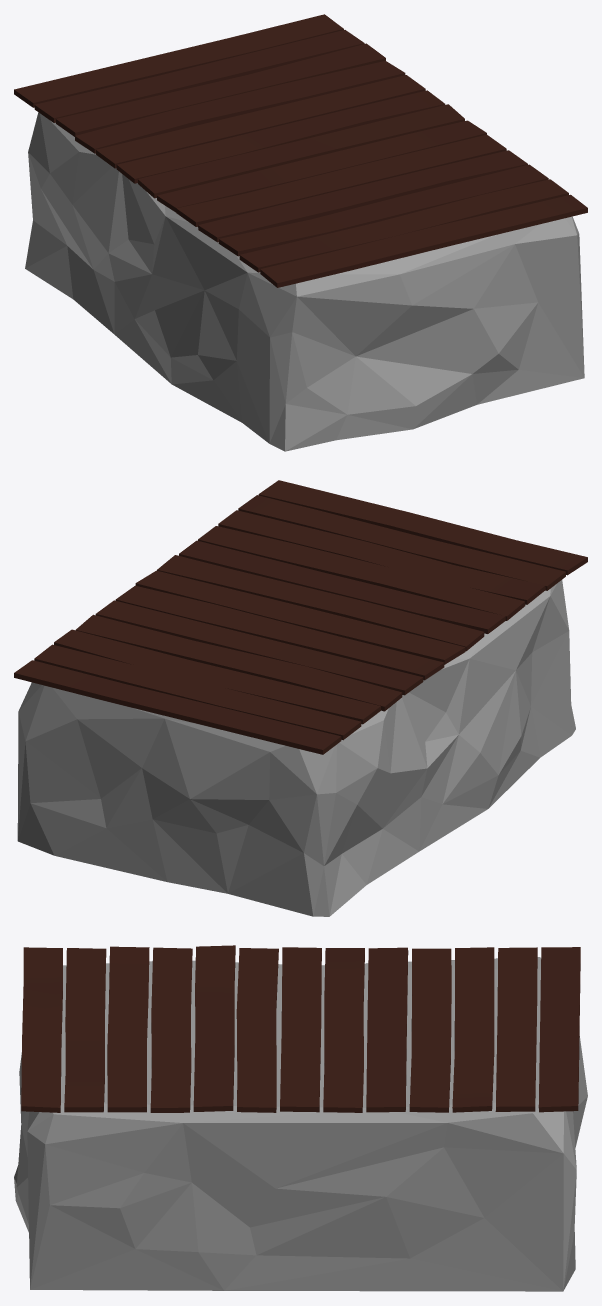
The model's file is port_house_base.FBX.
3 renders of one model, top to bottom at view 1: azimuth 30°, elevation 25°; view 2: azimuth 150°, elevation 25°; view 3: azimuth 270°, elevation 25°, orthographic. The views are drawn at different scales.
Visible parts, largest first — view 1: port_house_base; view 2: port_house_base; view 3: port_house_base.
Boxes of the visible parts, box(x1,y1,x2,y2) form: port_house_base: box(14, 14, 587, 451); port_house_base: box(14, 480, 587, 916); port_house_base: box(14, 945, 587, 1291).
Bounding box in the file's own units: 1008 × 527 × 1462.
